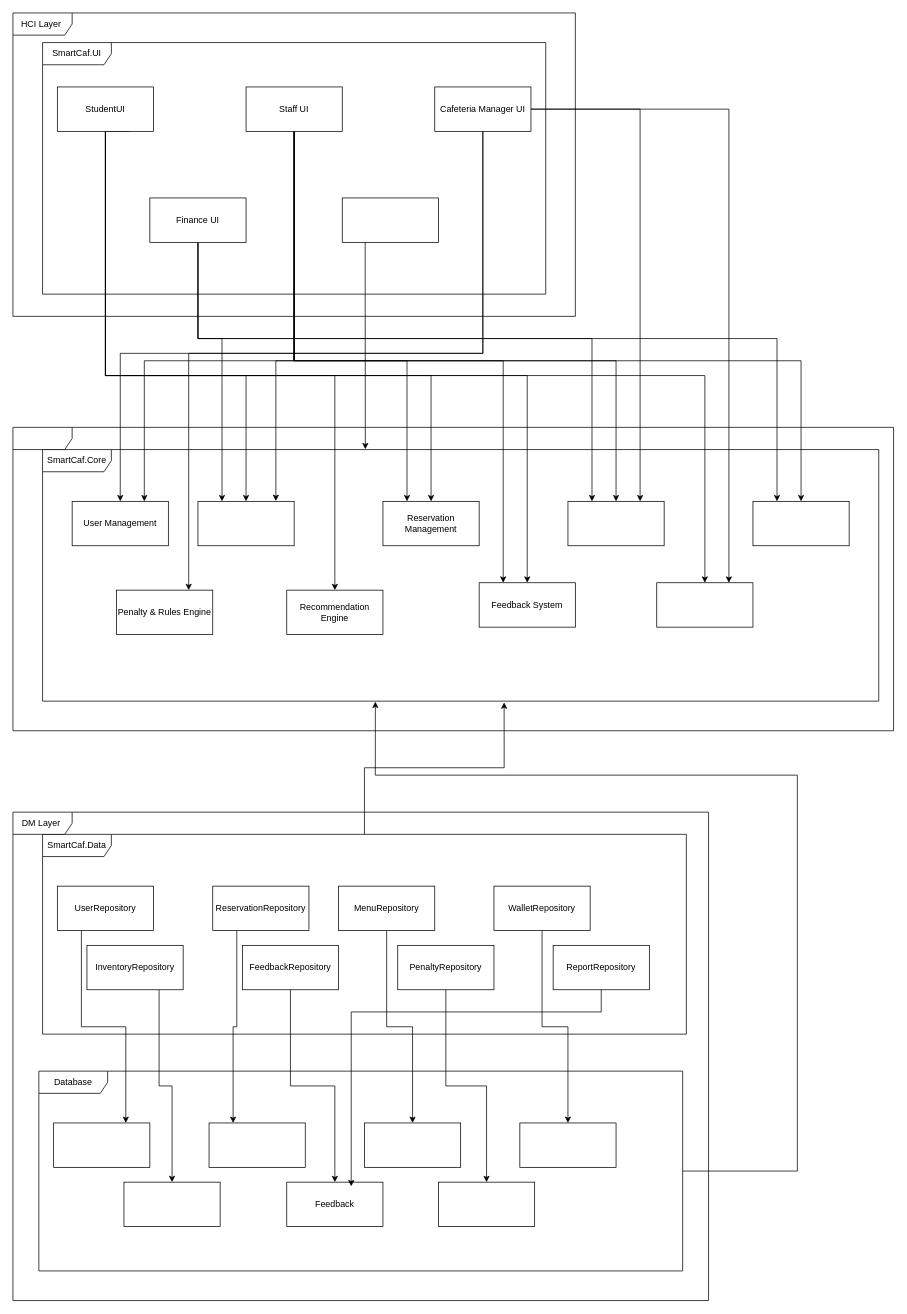
This 907x1314 diagram has some shape labels left out. Here are the shapes that lost their labels. From the top down, the centre of each, then its label:
the point at 390,219: Admin / IT Support UI
the point at 245,523: Wallet & Payment
the point at 615,523: Inventory Management
the point at 800,523: Menu Management
the point at 453,579: PD Layer
the point at 704,604: Reporting Service
the point at 101,1144: Users
the point at 256,1144: Reservations
the point at 412,1144: MenuItems
the point at 567,1144: WalletTransactions
the point at 171,1204: Inventory
the point at 486,1204: Penalties
